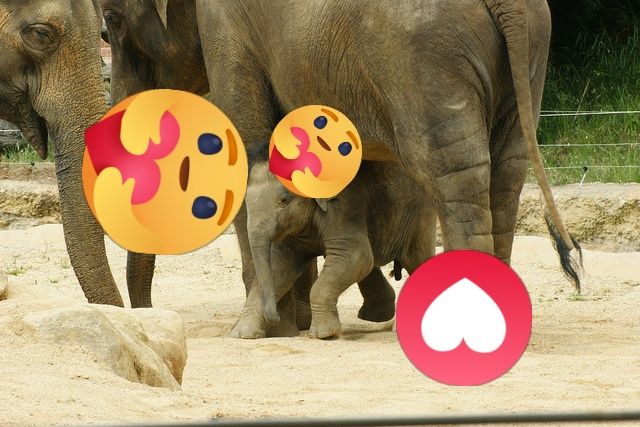care: (82, 89, 248, 255), (269, 105, 362, 198)
love: (396, 250, 532, 386)
